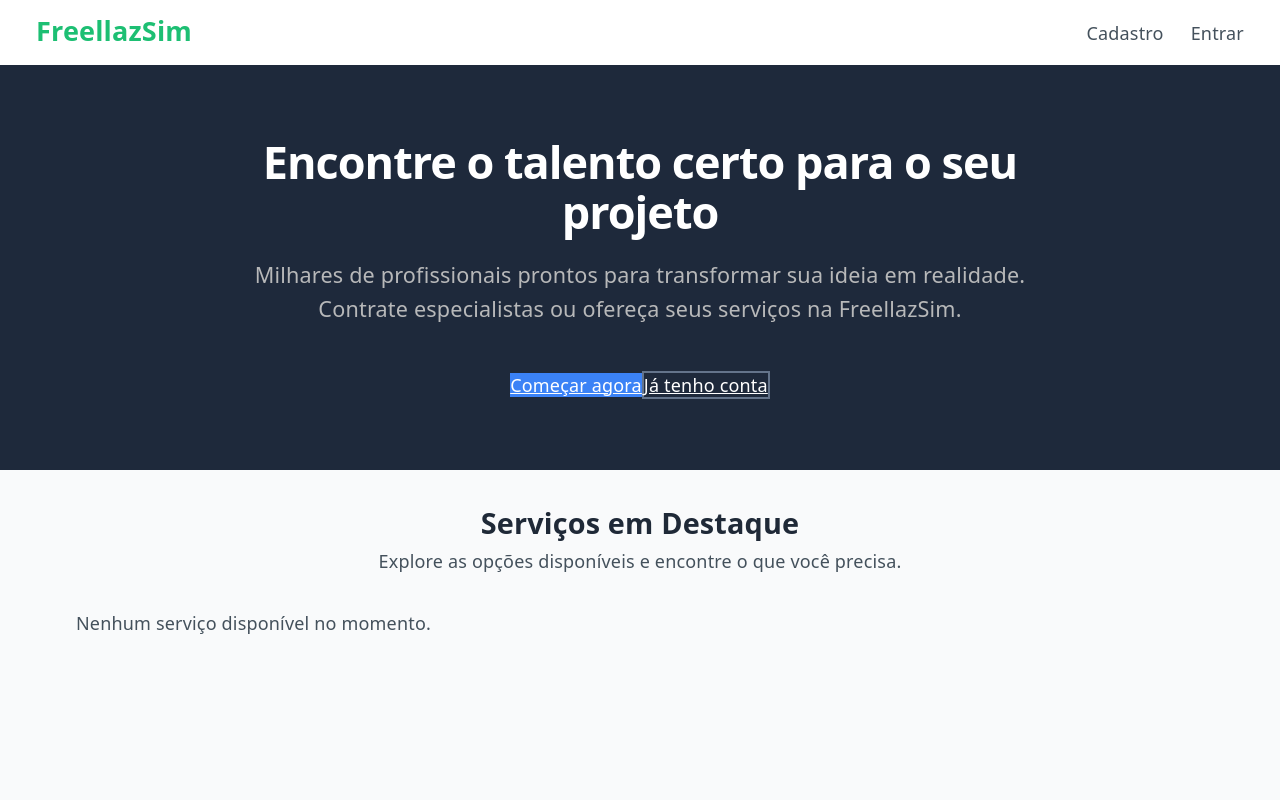
App routing › navega da Home para o Login ao clicar em "Entrar" na Navbar
Step 1. Click the link "Entrar" → (1217, 33), box 1191,20 -> 1244,46
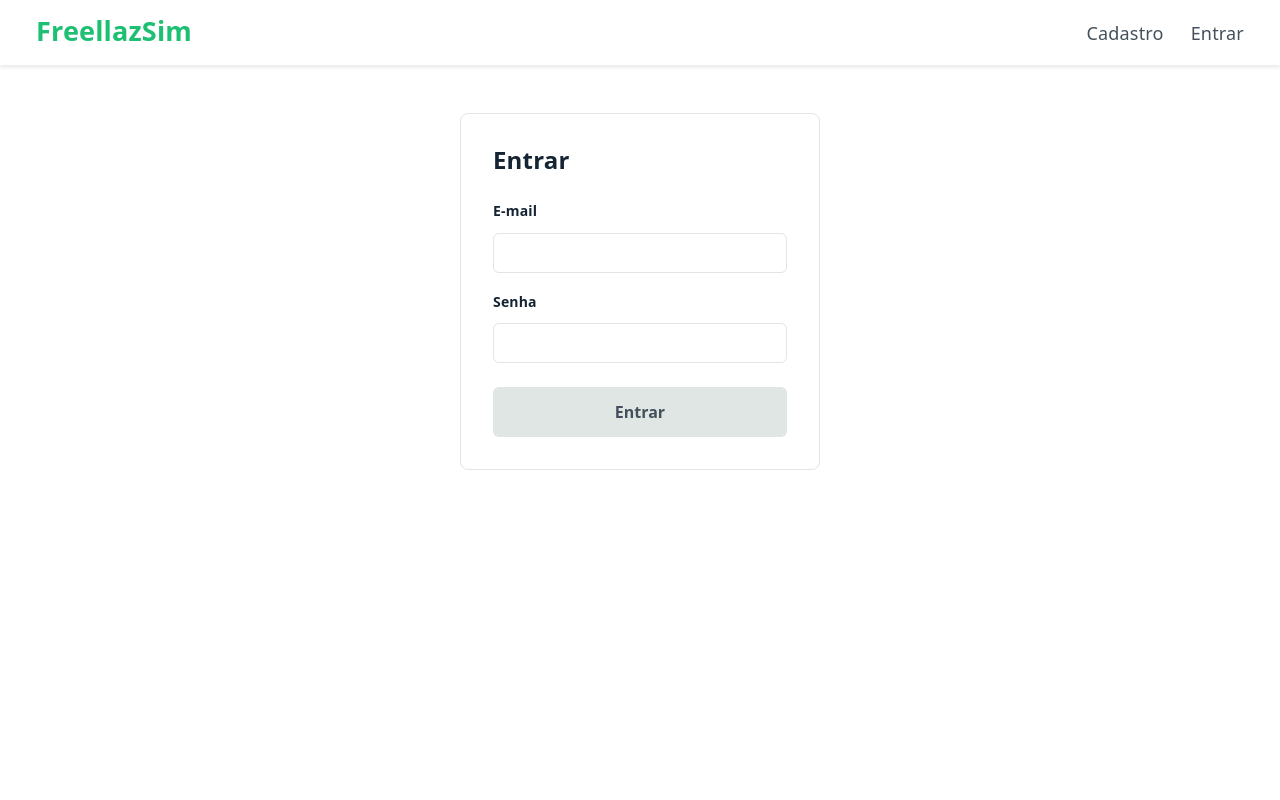
Expected: the heading "Entrar" is shown, 493,143 -> 570,176
